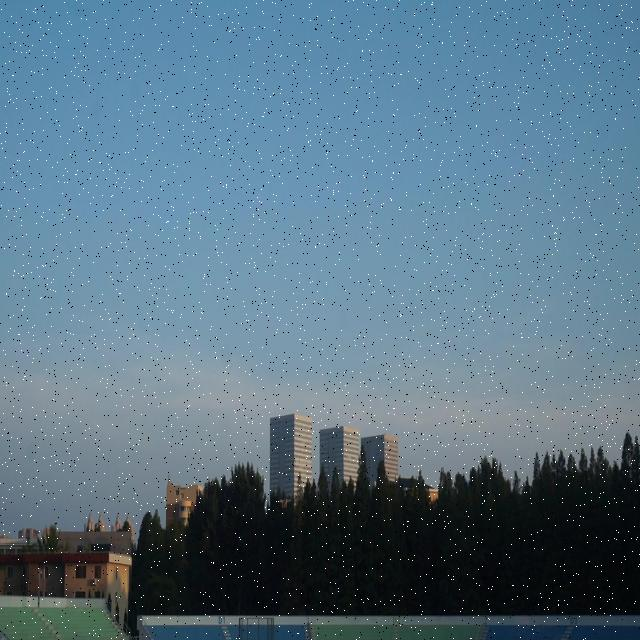UAV: (279, 498, 291, 509)
